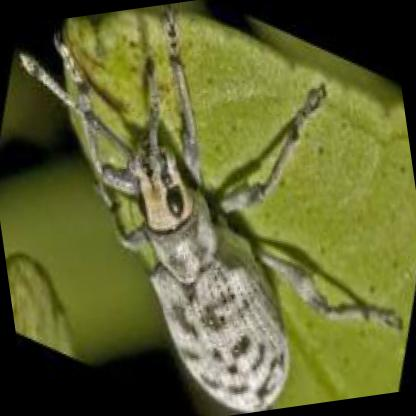ash weevil: (21, 17, 400, 409)
